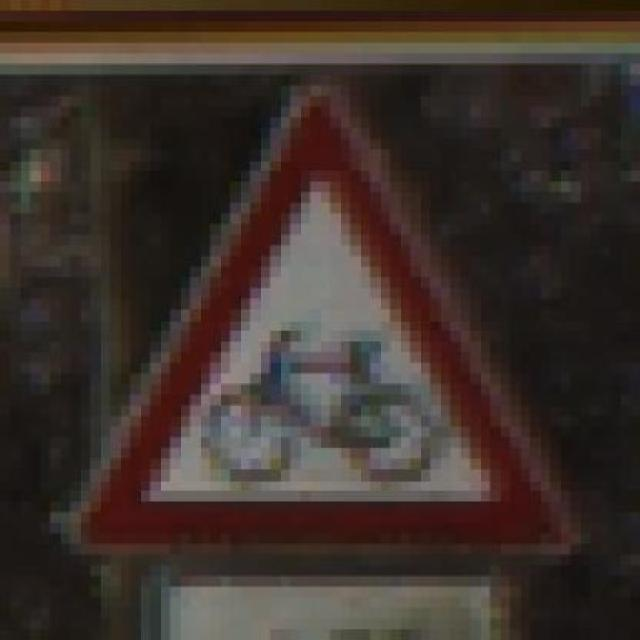CYCLE ROUTE AHEAD WARNING: (60, 75, 611, 587)
